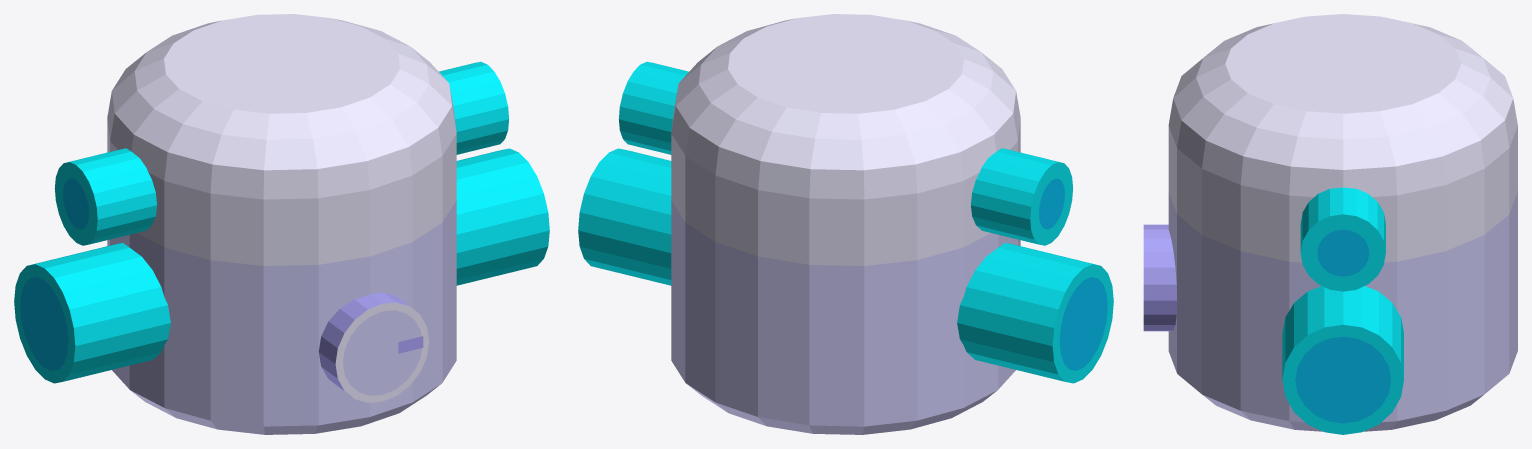
Rendered from Building_018_d.fbx.
3 renders of one model, left to right at view 1: azimuth 30°, elevation 25°; view 2: azimuth 150°, elevation 25°; view 3: azimuth 270°, elevation 25°, orthographic.
Visible parts, largest first — view 1: Building_018_d_h; view 2: Building_018_d_h; view 3: Building_018_d_h.
Part boxes in pixels (left/top/right/bottom): Building_018_d_h: left=14, top=14, right=549, bottom=434; Building_018_d_h: left=578, top=14, right=1113, bottom=434; Building_018_d_h: left=1143, top=14, right=1517, bottom=434.
Bounding box in the file's own units: 5.54 × 3.39 × 3.81.
